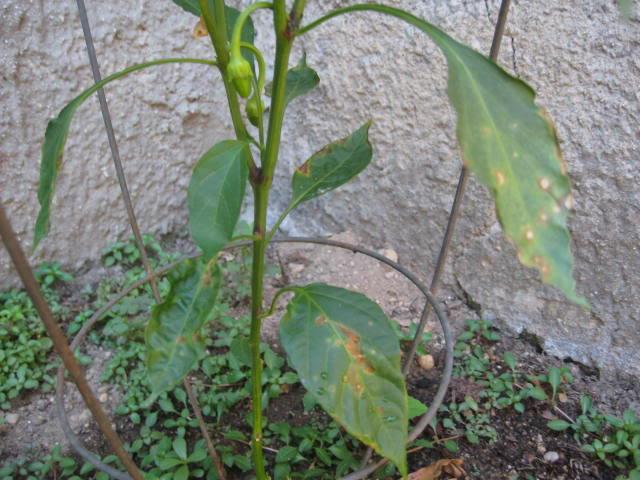Bell_pepper leaf: (433, 24, 592, 309), (278, 279, 411, 476), (144, 256, 222, 417), (288, 117, 375, 213), (27, 98, 80, 254)
